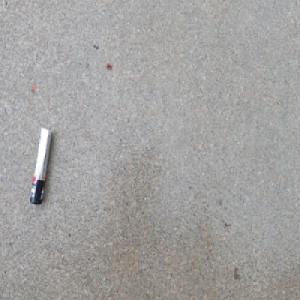Battery: (28, 125, 53, 208)
